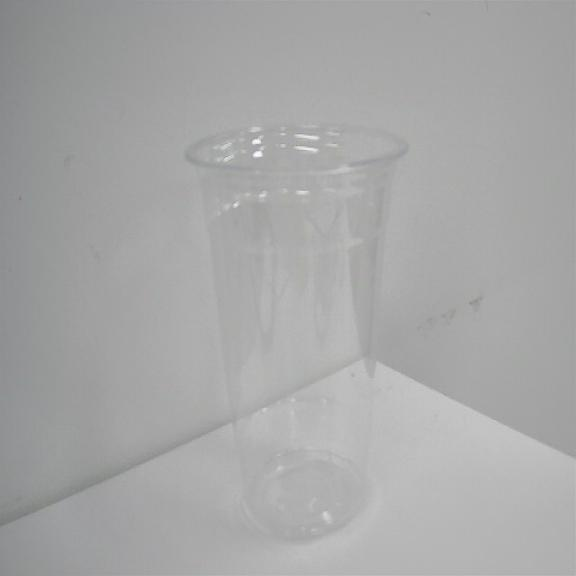Plastik: (187, 128, 406, 540)
